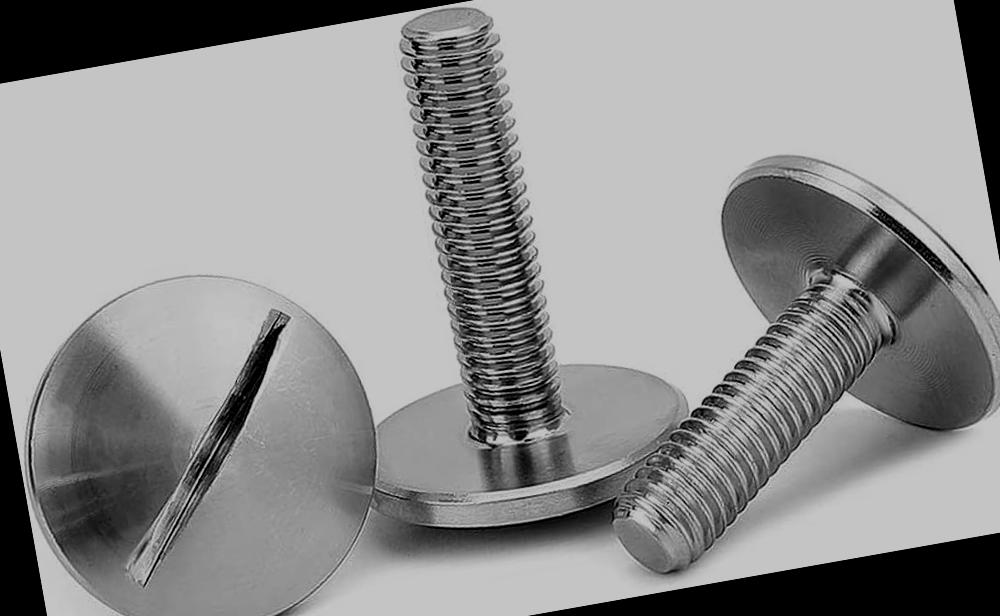slotted: (2, 245, 408, 616)
